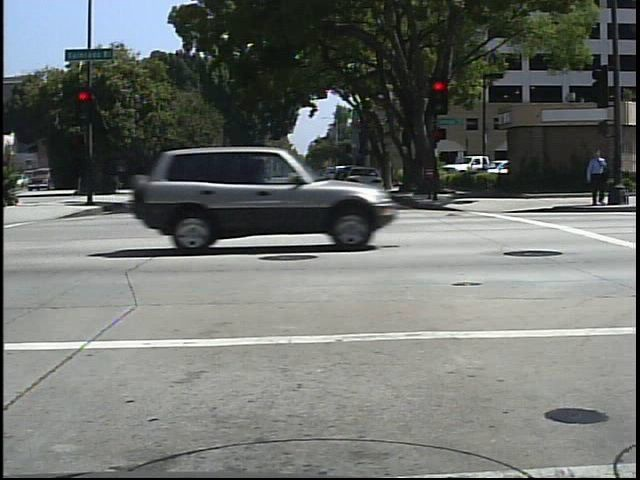person: (142, 155, 176, 219), (585, 143, 609, 209)
